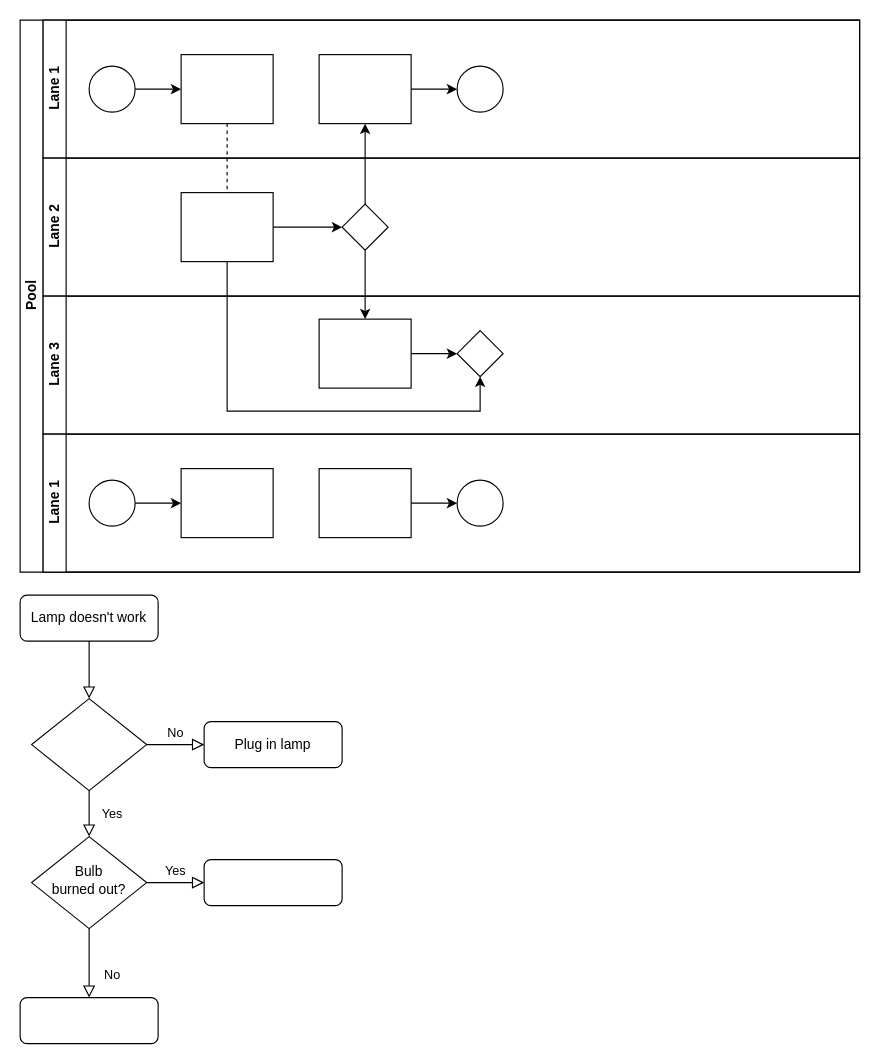
This 880x1064 diagram has some shape labels left out. Each missing label, with the centre of its shape:
"Lamp plugged in?" belongs at (88,744).
"Repair Lamp" belongs at (88,1020).
"Replace Bulb" belongs at (272,882).
